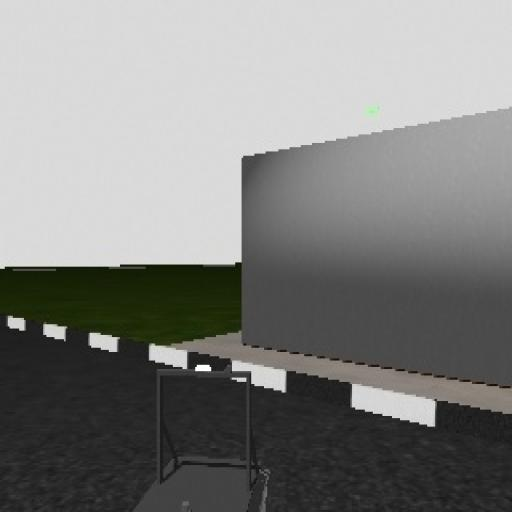huskya200: (112, 351, 283, 512)
